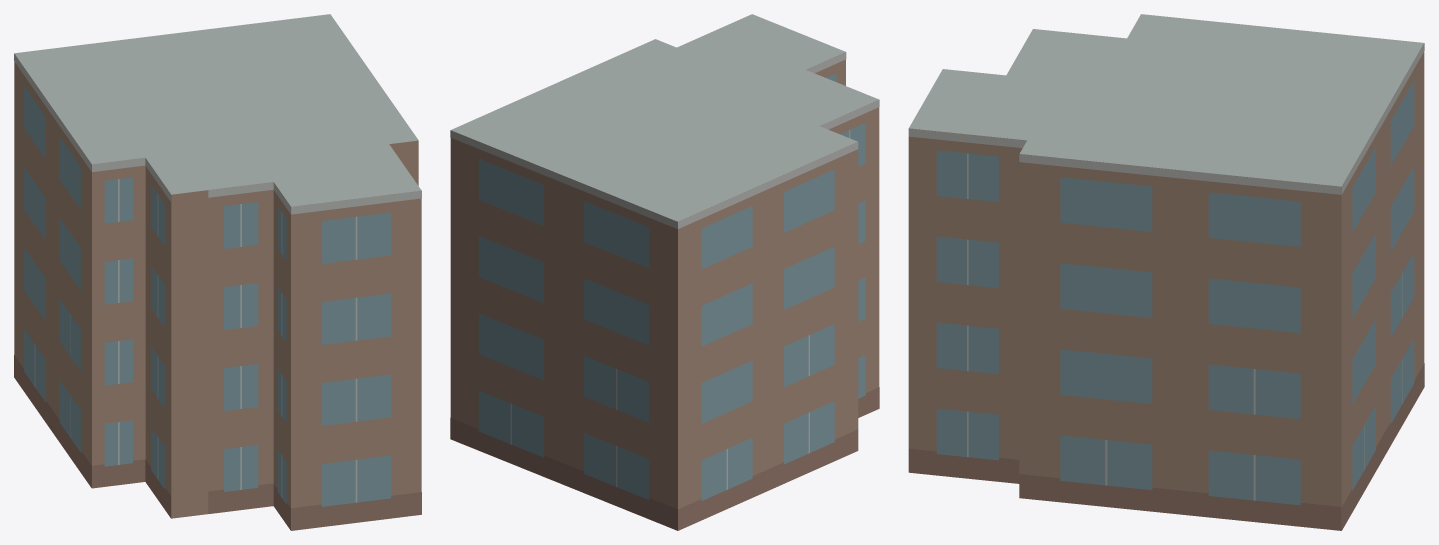
File: survey-upis-33025708.glb
3 views of the same model, side by side, from view 1: azimuth 30°, elevation 25°; view 2: azimuth 150°, elevation 25°; view 3: azimuth 270°, elevation 25° (orthographic). The views are drawn at different scales.
Parts seen in each view (by area): view 1: survey-upis-33025708.tmp; view 2: survey-upis-33025708.tmp; view 3: survey-upis-33025708.tmp.
Boxes of the visible parts, x1,y1,x2,y2 form: survey-upis-33025708.tmp: (14,14,421,530); survey-upis-33025708.tmp: (450,14,879,530); survey-upis-33025708.tmp: (908,14,1424,530).
Bounding box in the file's own units: 10.98 × 10.2 × 13.86.
